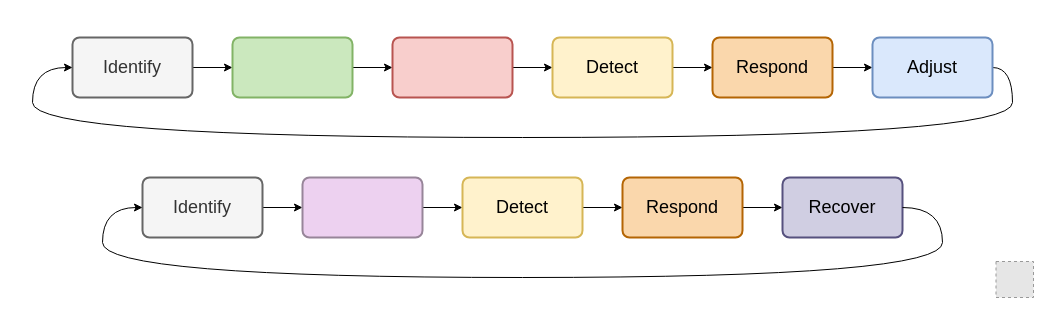
Some shapes in this 1051 by 315 pixel diagram are drawn without their labels. Grey dashed boxes stand in for pictures. Here are the shapes that lost their labels. From the top down, the centre of each, then its label:
At point 292,67: "Evaluate".
At point 452,67: "Apply".
At point 362,207: "Protect".
